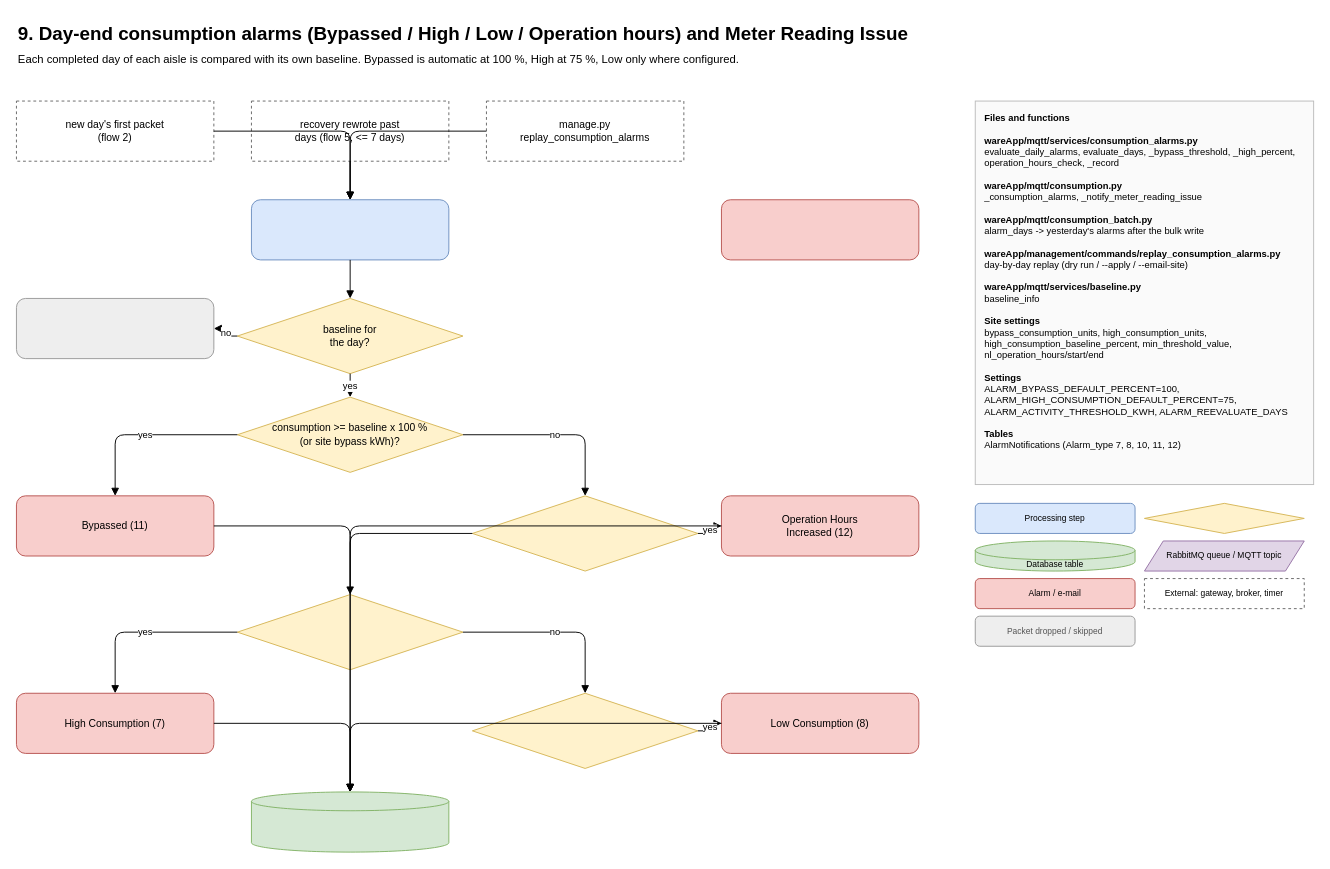
Some shapes in this 1330 by 869 pixel diagram are drawn without their labels. The box of each missing label's shape, as (x1, y1, x2, y2) in pixels:
_record: one alarm per aisle/type/day -> AlarmNotifications + notify: (251, 791, 449, 852)
consumption >= site high kWh or baseline x 75 %?: (236, 594, 463, 670)
Decision: (1144, 502, 1304, 533)
ERROR!!! packet -> _notify_meter_reading_issue (10): 1 e-mail / meter / day: (721, 199, 919, 260)
evaluate_daily_alarms (site, aisle, daily row): (251, 199, 449, 260)
NL window set and active hours outside / too many?: (471, 495, 698, 571)
no alarm: (16, 298, 214, 359)
site low % set and consumption < baseline x (1-%)?: (471, 692, 698, 768)
